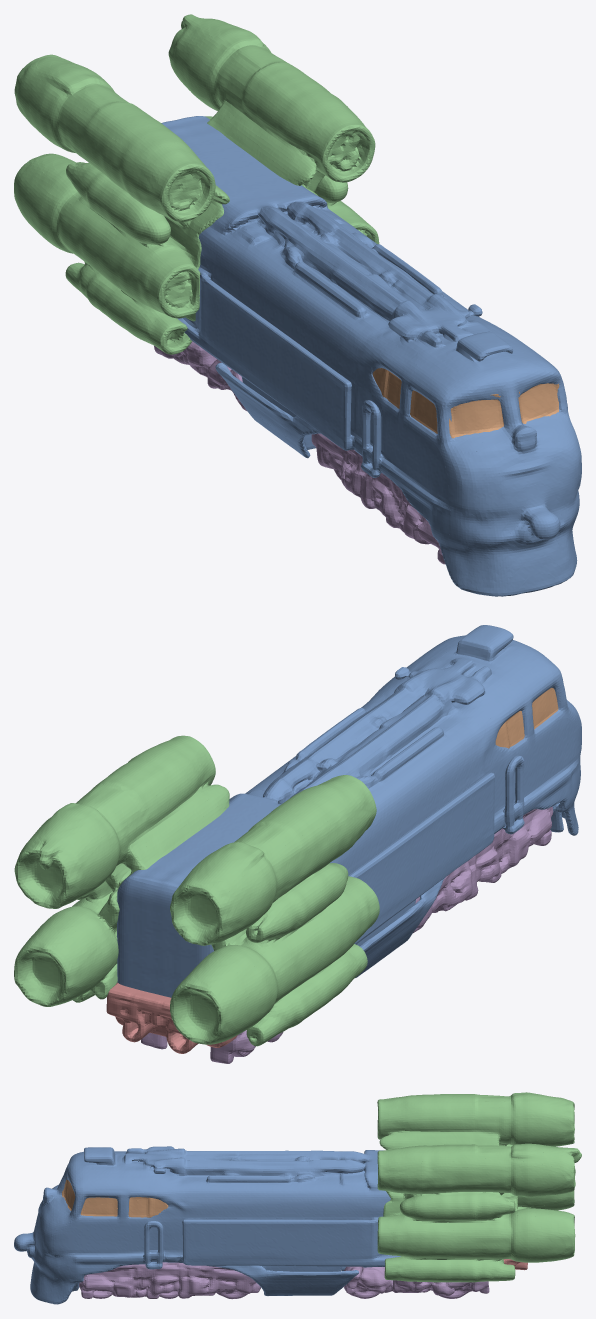
The model's file is rocket_train_3.glb.
3 renders of one model, top to bottom at view 1: azimuth 30°, elevation 25°; view 2: azimuth 150°, elevation 25°; view 3: azimuth 270°, elevation 25°, orthographic. The views are drawn at different scales.
Visible parts, largest first — view 1: Streamlined_locomotive_body, multiple_large_rocket_boosters_attached_to_sides_and_rear, reinforced_wheel_bogies, driver_cabin_windows; view 2: multiple_large_rocket_boosters_attached_to_sides_and_rear, Streamlined_locomotive_body, reinforced_wheel_bogies, exhaust_nozzles, driver_cabin_windows; view 3: Streamlined_locomotive_body, multiple_large_rocket_boosters_attached_to_sides_and_rear, reinforced_wheel_bogies, driver_cabin_windows.
Boxes of the visible parts, x1=… form: Streamlined_locomotive_body: x1=161, y1=116, x2=581, y2=596; multiple_large_rocket_boosters_attached_to_sides_and_rear: x1=14, y1=14, x2=379, y2=354; reinforced_wheel_bogies: x1=154, y1=341, x2=445, y2=564; driver_cabin_windows: x1=372, y1=368, x2=559, y2=438; multiple_large_rocket_boosters_attached_to_sides_and_rear: x1=14, y1=735, x2=379, y2=1046; Streamlined_locomotive_body: x1=117, y1=625, x2=581, y2=997; reinforced_wheel_bogies: x1=141, y1=806, x2=553, y2=1063; exhaust_nozzles: x1=106, y1=982, x2=237, y2=1053; driver_cabin_windows: x1=495, y1=688, x2=558, y2=748; Streamlined_locomotive_body: x1=14, y1=1146, x2=400, y2=1304; multiple_large_rocket_boosters_attached_to_sides_and_rear: x1=377, y1=1092, x2=581, y2=1282; reinforced_wheel_bogies: x1=79, y1=1262, x2=489, y2=1299; driver_cabin_windows: x1=62, y1=1177, x2=168, y2=1217.
Size of the model in its own units: 0.5781 by 0.6282 by 1.92.
